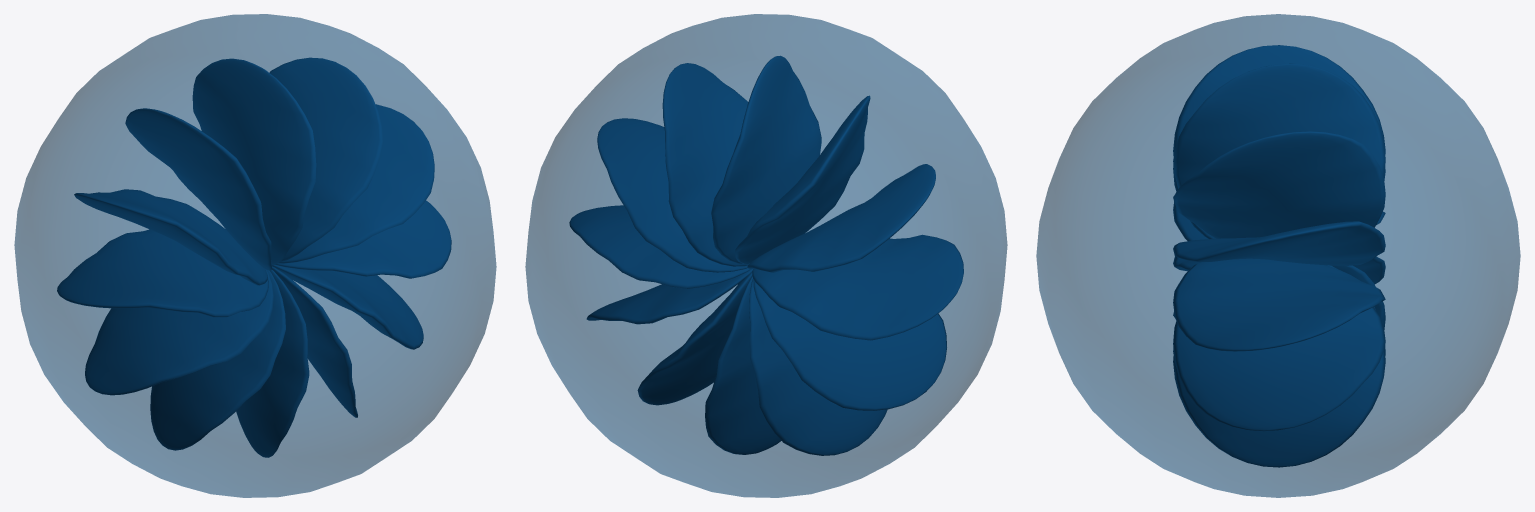
File: Enviro_Marble_001.fbx
3 renders of one model, left to right at view 1: azimuth 30°, elevation 25°; view 2: azimuth 150°, elevation 25°; view 3: azimuth 270°, elevation 25°, orthographic.
Parts seen in each view (by area): view 1: Marble; view 2: Marble; view 3: Marble.
Boxes of the visible parts, x1,y1,x2,y2 form: Marble: (14,14,496,497); Marble: (525,14,1007,497); Marble: (1036,14,1520,497).
Size of the model in its own units: 200 by 200 by 200.
